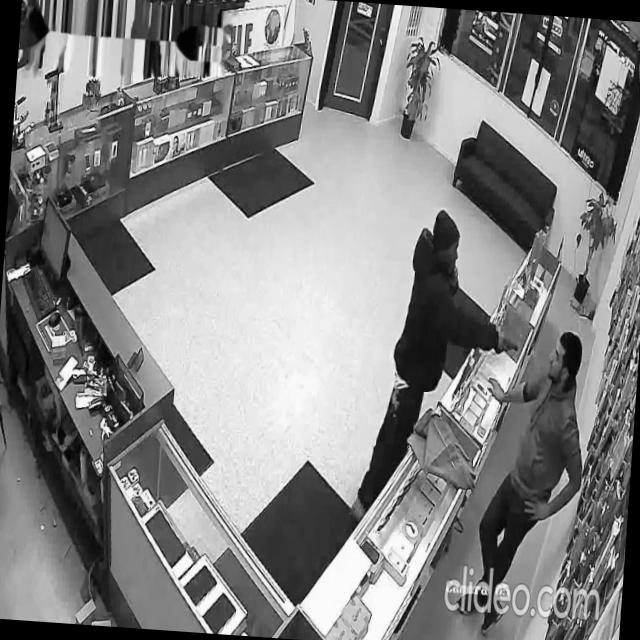gun: (502, 334, 520, 356)
person: (453, 323, 592, 640)
person with a gun: (349, 203, 529, 535)
